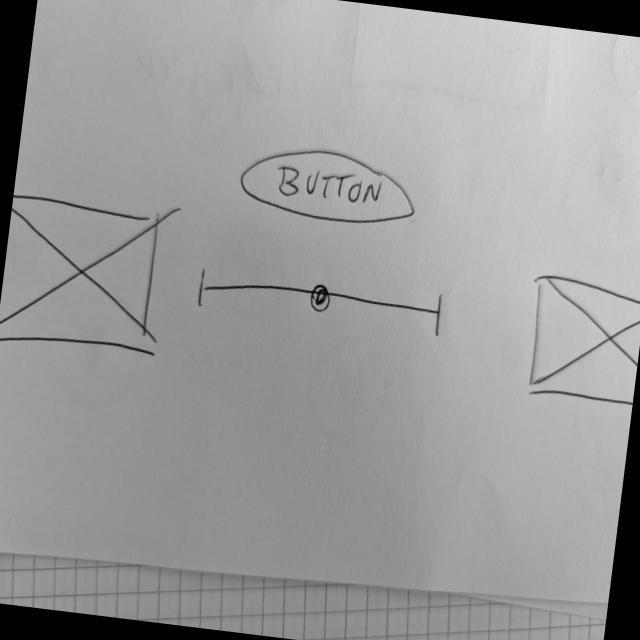button: (235, 137, 425, 238)
image: (1, 190, 167, 362), (518, 267, 640, 416)
slider: (194, 261, 450, 341)
